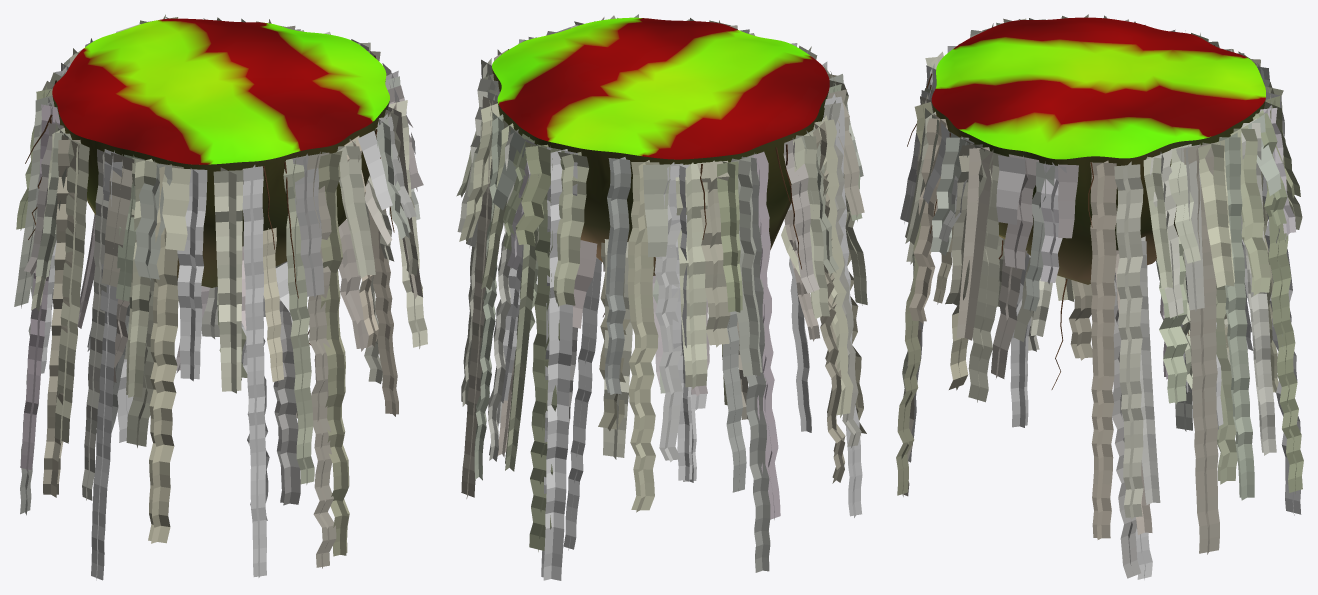
Rendered from SM_H06_Floater02.fbx.
3 views of the same model, side by side, from view 1: azimuth 30°, elevation 25°; view 2: azimuth 150°, elevation 25°; view 3: azimuth 270°, elevation 25° (orthographic).
Parts seen in each view (by area): view 1: SM_H06_Floater02_Ivy, SM_H06_Floater02; view 2: SM_H06_Floater02_Ivy, SM_H06_Floater02; view 3: SM_H06_Floater02_Ivy, SM_H06_Floater02.
Part boxes in pixels (x1=…): SM_H06_Floater02_Ivy: x1=14, y1=14, x2=427, y2=580; SM_H06_Floater02: x1=52, y1=18, x2=389, y2=287; SM_H06_Floater02_Ivy: x1=456, y1=14, x2=867, y2=580; SM_H06_Floater02: x1=492, y1=17, x2=829, y2=275; SM_H06_Floater02_Ivy: x1=896, y1=14, x2=1303, y2=579; SM_H06_Floater02: x1=931, y1=17, x2=1265, y2=284.
Bounding box in the file's own units: 26.58 × 33.15 × 25.98.
